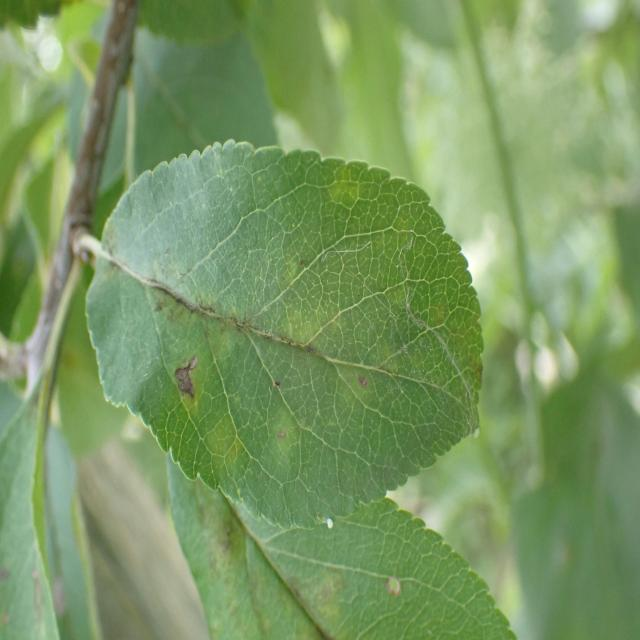scab: (185, 467, 351, 640), (134, 270, 368, 371), (162, 342, 204, 426)
